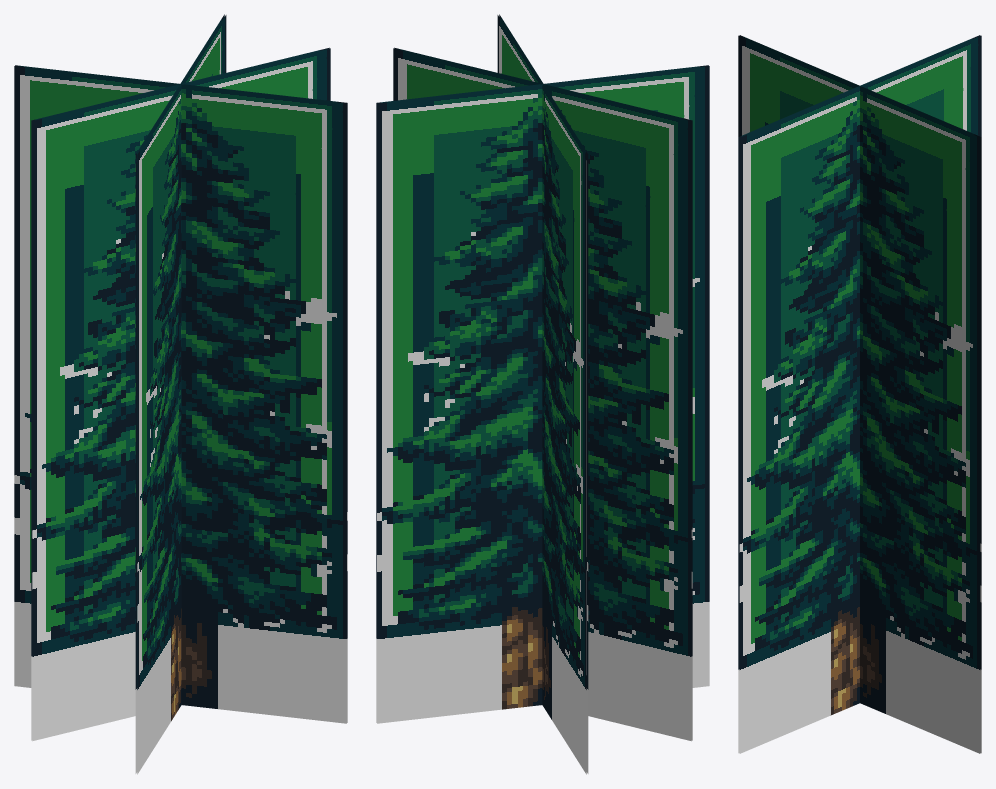
The model's file is tree2.glb.
3 views of the same model, side by side, from view 1: azimuth 30°, elevation 25°; view 2: azimuth 150°, elevation 25°; view 3: azimuth 270°, elevation 25° (orthographic).
Visible parts, largest first — view 1: Plane; view 2: Plane; view 3: Plane.
Part boxes in pixels (box(x1,y1,x2,y2)): Plane: box(14, 14, 347, 774); Plane: box(376, 14, 709, 774); Plane: box(738, 35, 981, 753).
Bounding box in the file's own units: 2 × 3.97 × 1.42.
1 material, 1 textured.
